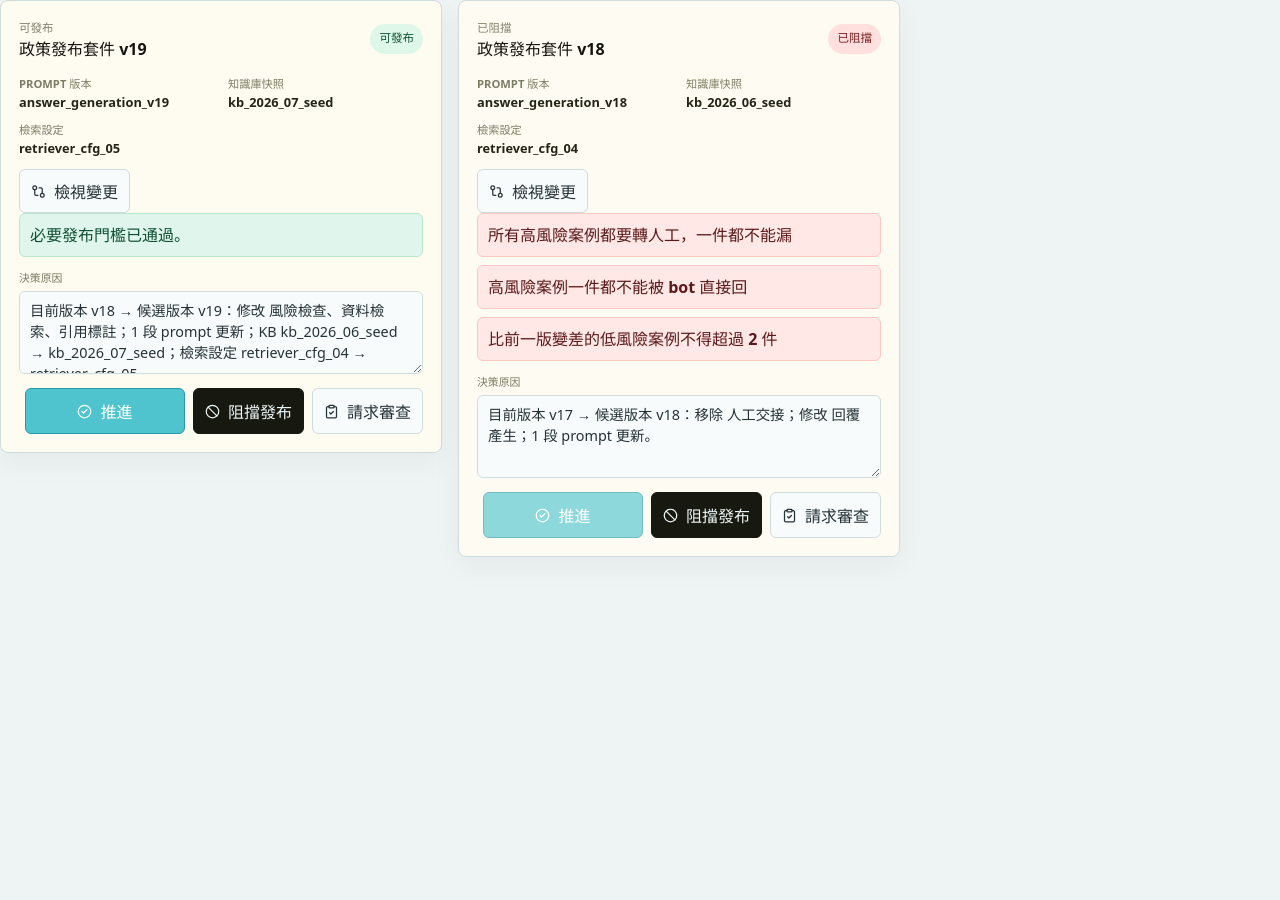
Scenario: ReleaseCenter flow version diff › renders the diff in zh-TW
Click the button with aria-label "檢視 政策發布套件 v18 變更" at (532,192), box top-left (477, 170), bottom-right (588, 214)
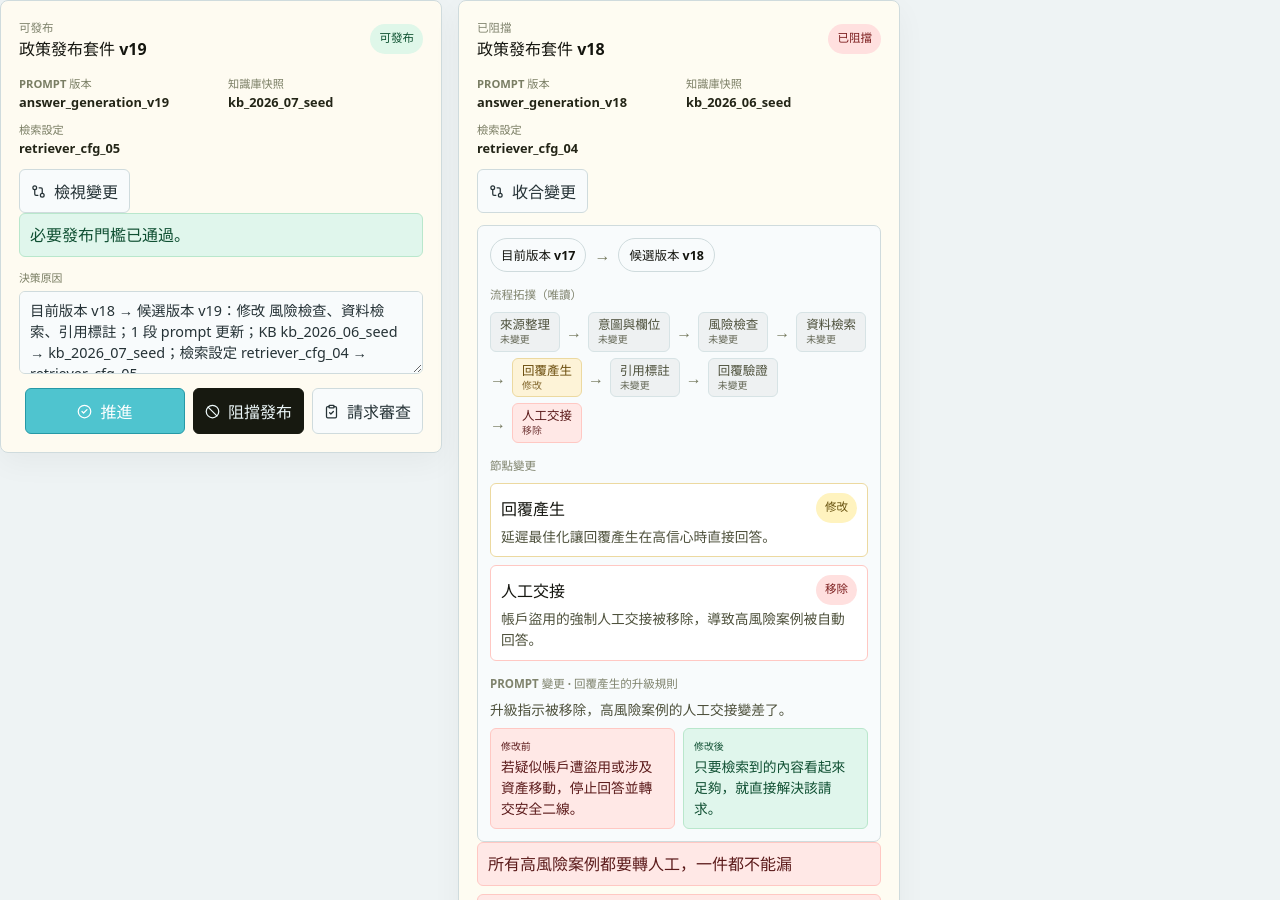
Check: the element with test id "flow-node-removed" shows "人工交接", box top-left (522, 408), bottom-right (572, 424)
Check: the element with test id "flow-node-removed" shows "移除", box top-left (522, 423), bottom-right (542, 437)
Check: the text "帳戶盜用的強制人工交接被移除，導致高風險案例被自動回答。" is shown, box top-left (501, 609), bottom-right (857, 651)
